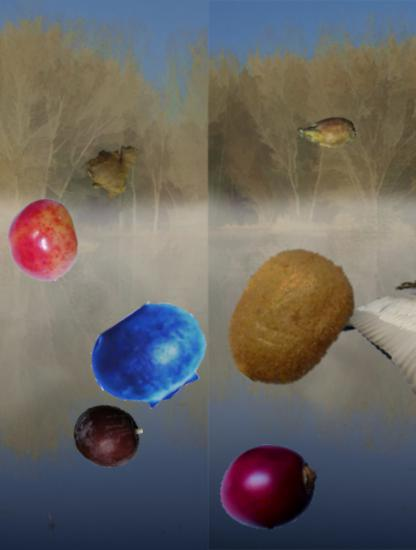Cactus: (296, 103, 356, 163)
Cherry: (0, 199, 85, 284)
Ginger: (86, 140, 146, 200)
Huckleberry: (92, 298, 209, 415)
Kiwi: (215, 242, 362, 389)
Plum: (73, 401, 143, 471)
Tamarillo: (218, 437, 319, 538)
